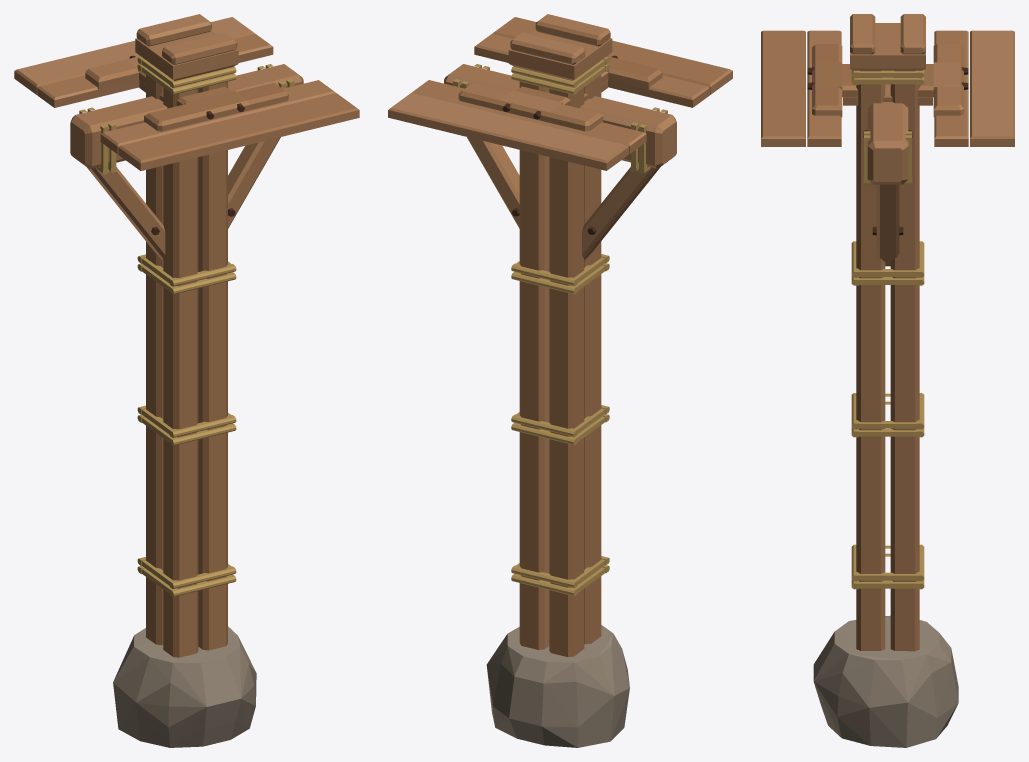
Rendered from open-bay-structural-post-f840a9.glb.
The picture shows the model from 3 angles, left to right: view 1: azimuth 30°, elevation 25°; view 2: azimuth 150°, elevation 25°; view 3: azimuth 270°, elevation 25°; orthographic projection.
Visible parts, largest first — view 1: post-body; view 2: post-body; view 3: post-body.
Part boxes in pixels (x1=…): post-body: x1=14, y1=14, x2=359, y2=747; post-body: x1=388, y1=14, x2=732, y2=747; post-body: x1=761, y1=14, x2=1014, y2=747.
Size of the model in its own units: 1 by 3 by 1.
